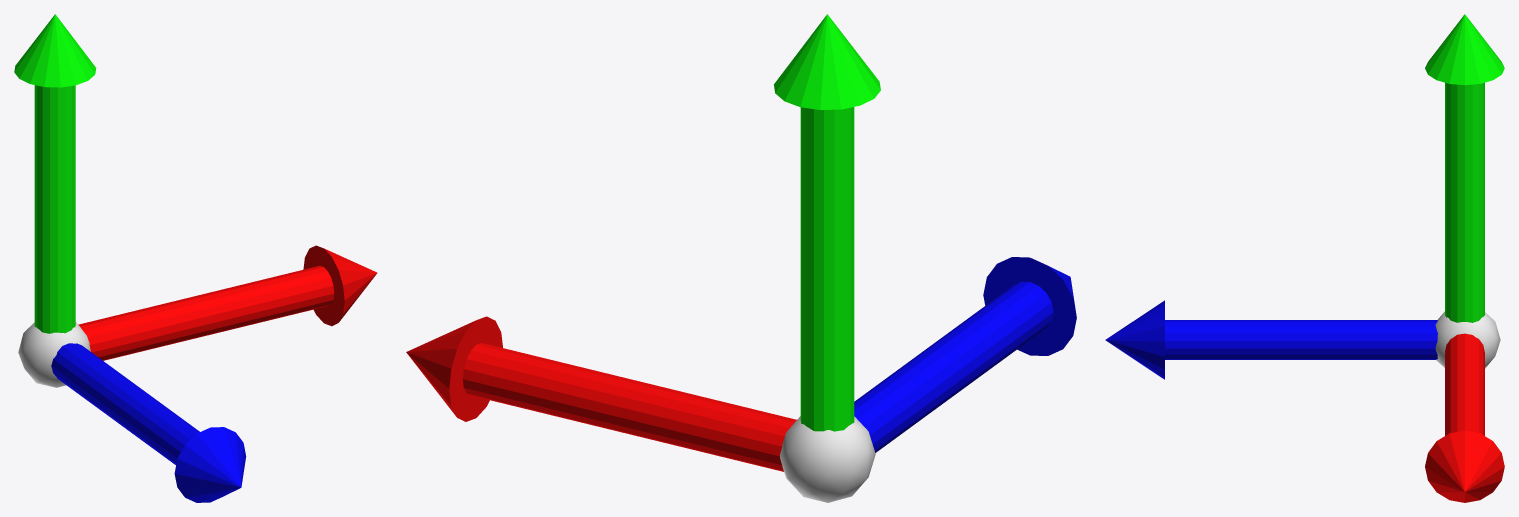
Rendered from coordinateAxis.glb.
3 views of the same model, side by side, from view 1: azimuth 30°, elevation 25°; view 2: azimuth 150°, elevation 25°; view 3: azimuth 270°, elevation 25° (orthographic). The views are drawn at different scales.
Parts seen in each view (by area): view 1: Vert, Vert.001, Vert.002, Icosphere; view 2: Vert, Vert.001, Vert.002, Icosphere; view 3: Vert.002, Vert, Vert.001, Icosphere.
Boxes of the visible parts, x1,y1,x2,y2 form: Vert: (14,14,96,333); Vert.001: (78,245,377,360); Vert.002: (51,343,246,502); Icosphere: (18,322,90,387); Vert: (774,14,880,431); Vert.001: (406,316,796,471); Vert.002: (854,257,1076,452); Icosphere: (780,416,875,502); Vert.002: (1105,300,1437,379); Vert: (1425,14,1504,322); Vert.001: (1425,333,1504,502); Icosphere: (1435,311,1500,368).
Size of the model in its own units: 2 by 2 by 2.
